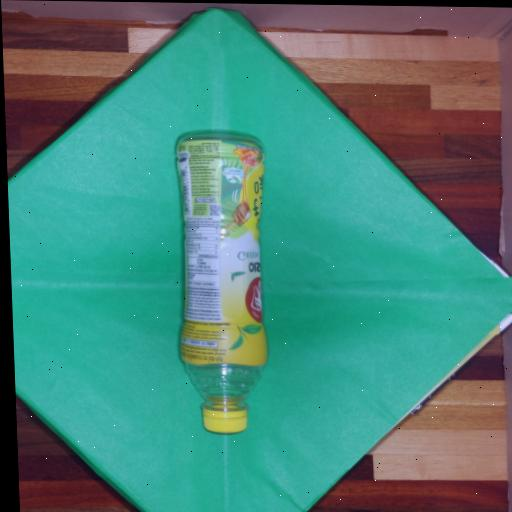bottle: (144, 124, 304, 448)
